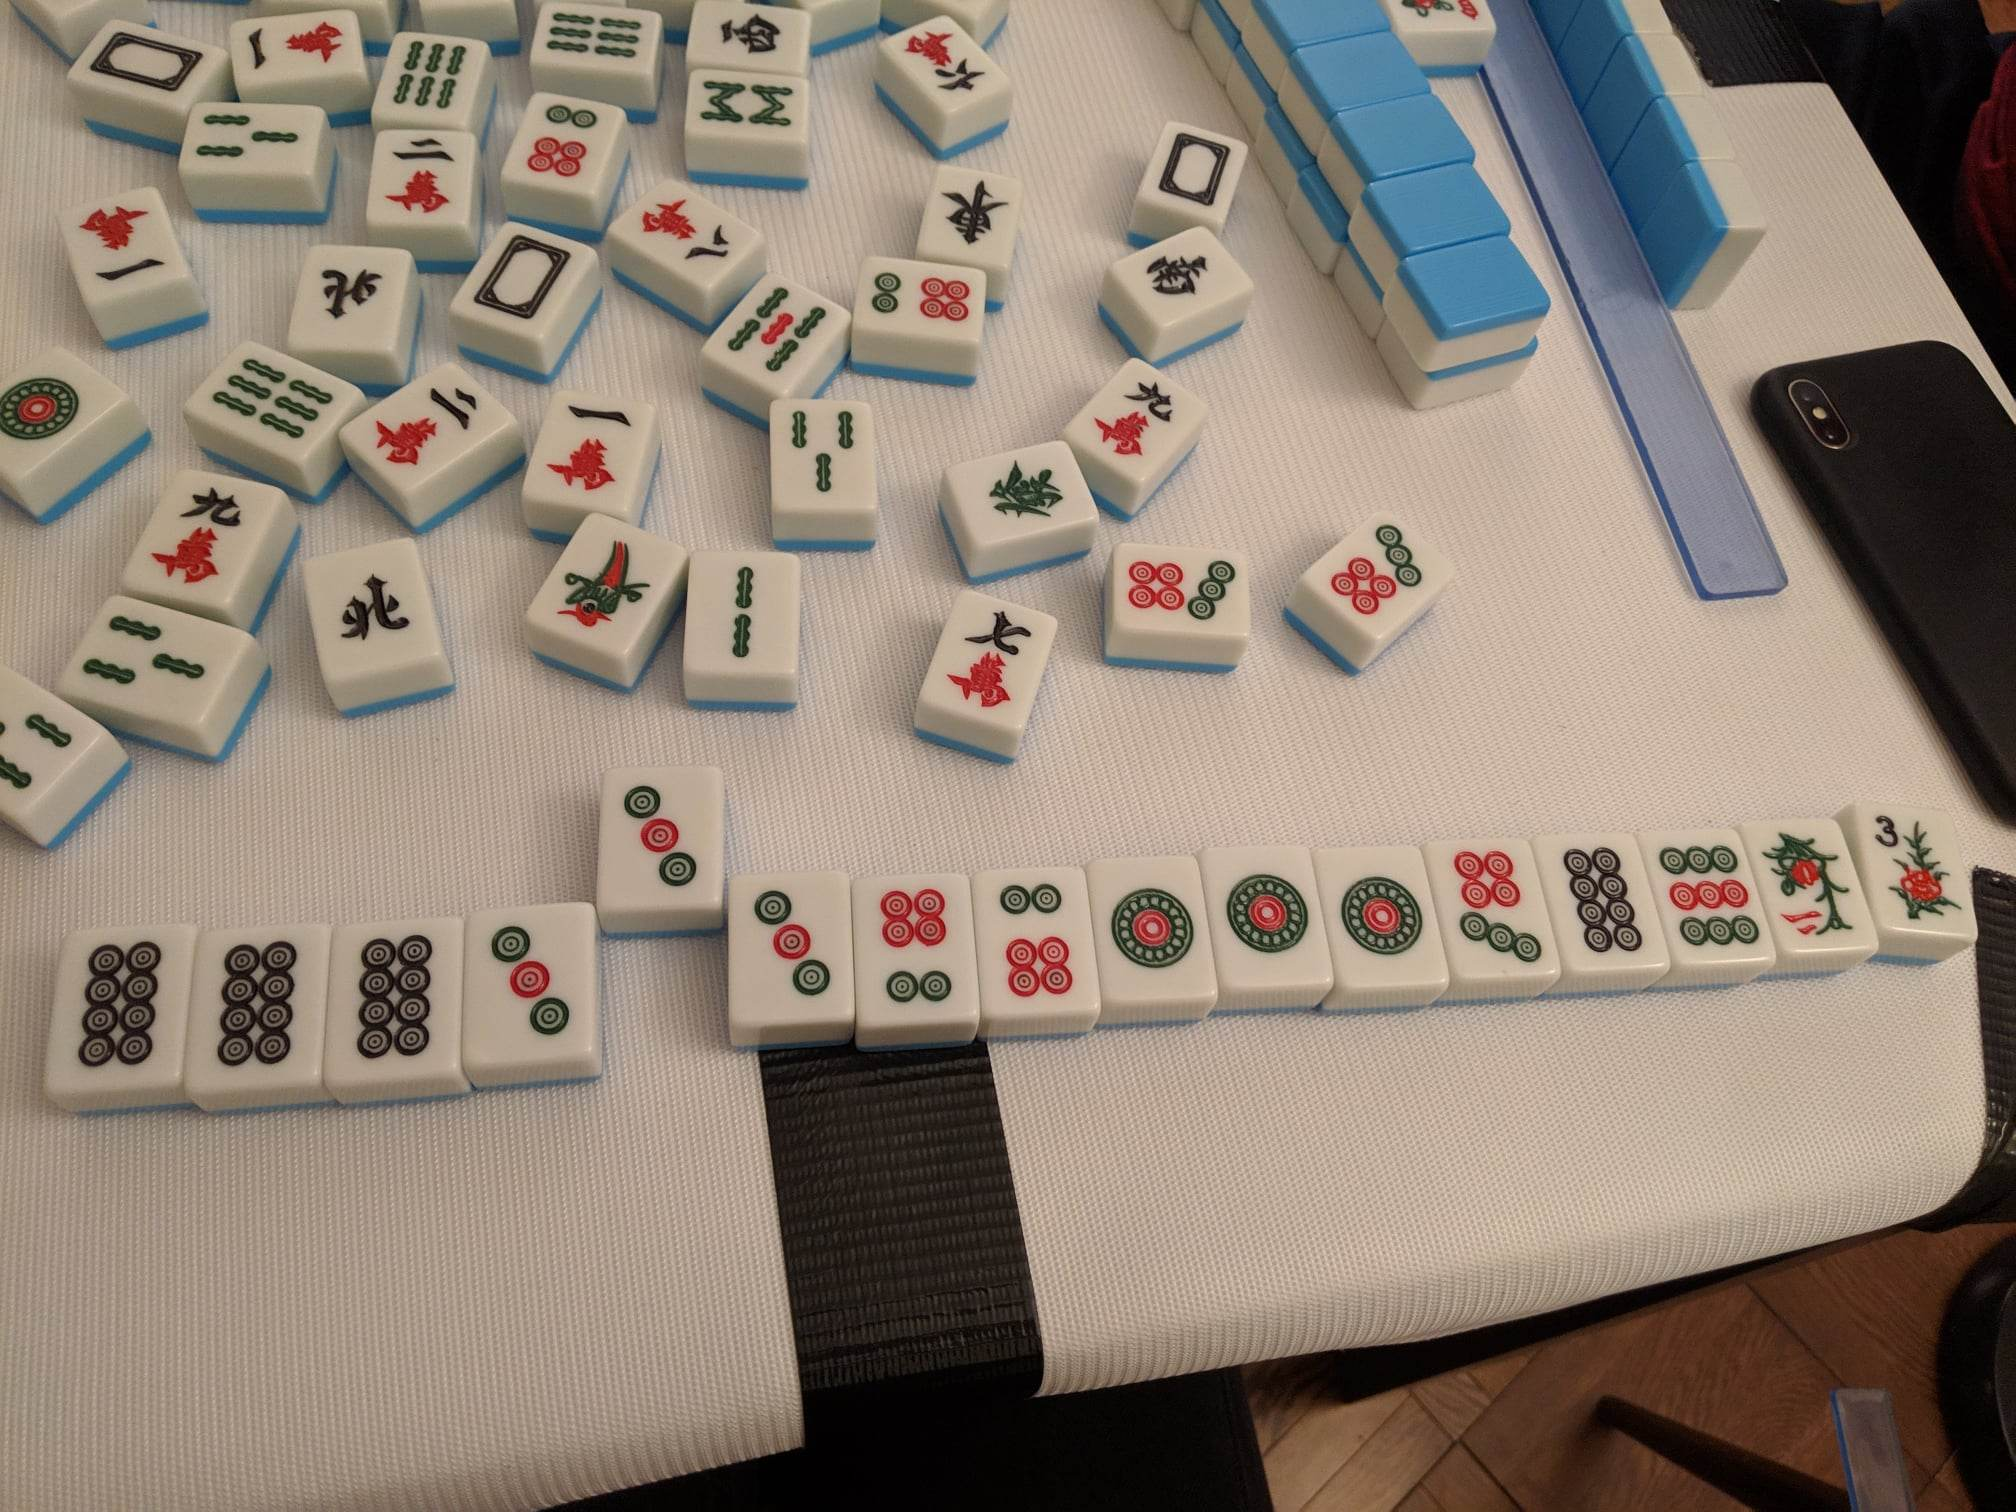bamboo-eight: (684, 68, 806, 141)
bamboo-five: (700, 272, 851, 394)
bamboo-one: (524, 511, 687, 656)
bamboo-six: (186, 343, 360, 454), (371, 33, 483, 121), (532, 3, 662, 68)
bamboo-three: (59, 594, 249, 724), (771, 400, 875, 508), (178, 103, 321, 172)
bamboo-two: (683, 551, 798, 673)
character-eight: (608, 178, 767, 287)
character-nine: (121, 469, 283, 608), (1068, 357, 1205, 473)
character-one: (521, 391, 659, 515), (60, 183, 189, 308), (232, 11, 360, 87)
character-seven: (921, 588, 1056, 727)
character-six: (881, 17, 1011, 108)
character-two: (340, 359, 516, 492), (368, 132, 475, 224)
circle-eight: (44, 924, 195, 1094), (187, 926, 329, 1091), (327, 920, 462, 1083), (1530, 834, 1672, 974)
circle-nine: (1635, 827, 1776, 964)
circle-one: (1311, 845, 1451, 989), (1198, 845, 1333, 989), (1086, 854, 1218, 1001), (2, 345, 124, 484)
circle-seven: (1302, 511, 1454, 643), (1425, 842, 1560, 978), (1118, 546, 1249, 637)
circle-six: (851, 874, 979, 1026), (971, 867, 1098, 1020), (497, 94, 622, 191), (856, 256, 984, 340)
circle-three: (464, 904, 594, 1066), (729, 872, 852, 1024), (597, 767, 722, 910)
flower-blue_three: (1856, 800, 1978, 939)
flower-red_two: (1738, 818, 1879, 951)
honor-blue_dragon: (451, 222, 598, 337), (71, 21, 229, 106), (1137, 121, 1249, 226)
honor-east_wind: (918, 164, 1021, 265)
honor-green_dragon: (948, 438, 1100, 546)
honor-north_wind: (302, 535, 448, 685), (287, 248, 410, 348)
honor-south_wind: (1103, 226, 1256, 329)
honor-west_wind: (689, 3, 808, 68)
